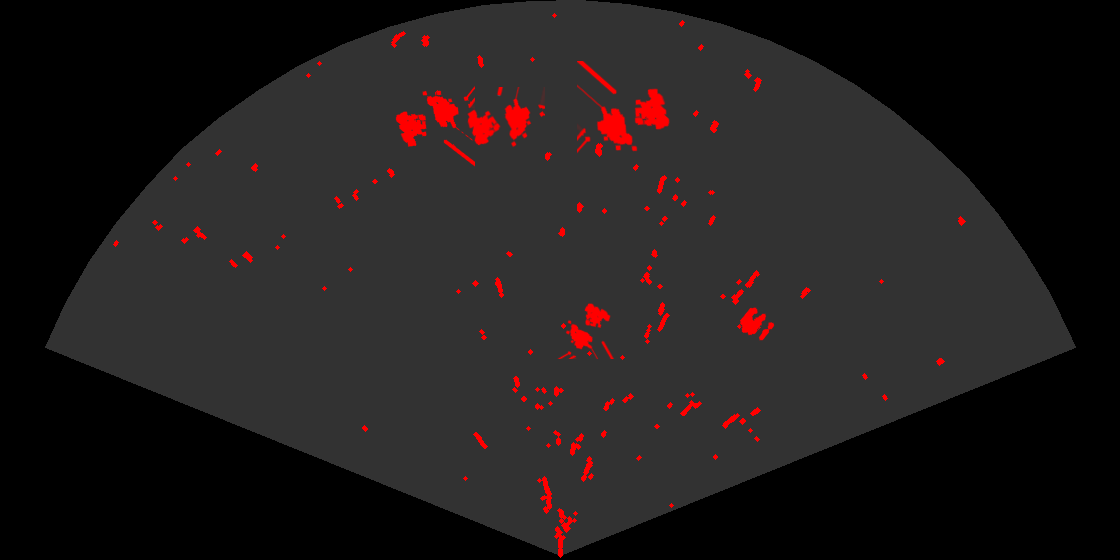ball: (739, 306, 776, 342)
cage: (577, 61, 671, 155), (394, 85, 475, 168), (466, 87, 545, 149), (556, 302, 616, 359)
